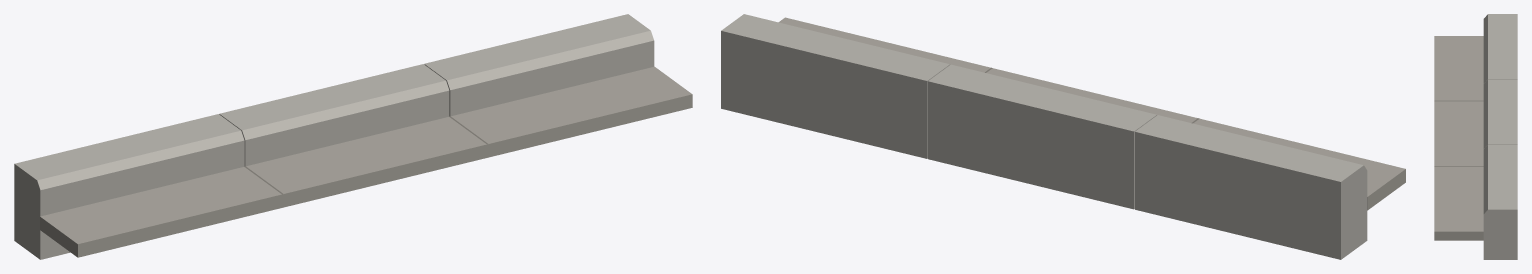
Rendered from SC_Gnd_Curb_3m_Gutter.gltf.
3 views of the same model, side by side, from view 1: azimuth 30°, elevation 25°; view 2: azimuth 150°, elevation 25°; view 3: azimuth 270°, elevation 25° (orthographic). The views are drawn at different scales.
Parts seen in each view (by area): view 1: SC_Gnd_Curb_3m_Gutter; view 2: SC_Gnd_Curb_3m_Gutter; view 3: SC_Gnd_Curb_3m_Gutter.
Part boxes in pixels (x1,y1,x2,y2): SC_Gnd_Curb_3m_Gutter: (14, 14, 692, 259); SC_Gnd_Curb_3m_Gutter: (721, 14, 1405, 259); SC_Gnd_Curb_3m_Gutter: (1434, 14, 1517, 259).
Size of the model in its own units: 3 by 0.36 by 0.54.
1 material, 1 textured.
